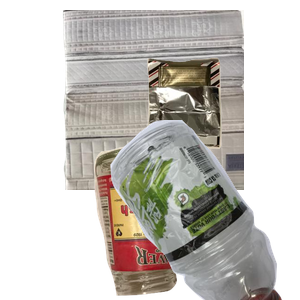glass: (91, 142, 260, 300)
paper: (60, 10, 300, 190)
plastic: (73, 120, 300, 300)
trash: (144, 55, 300, 197)
